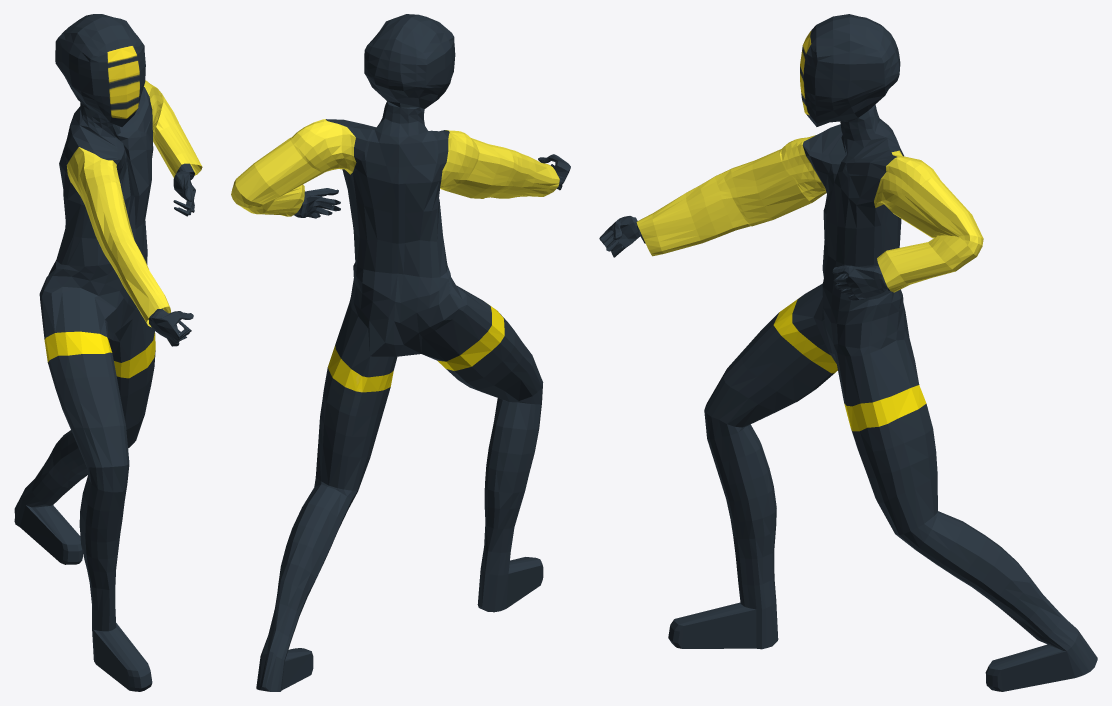
The model's file is Sentry_Attack_000001.obj.
3 renders of one model, left to right at view 1: azimuth 30°, elevation 25°; view 2: azimuth 150°, elevation 25°; view 3: azimuth 270°, elevation 25°, orthographic. The views are drawn at different scales.
Visible parts, largest first — view 1: Cube; view 2: Cube; view 3: Cube.
Part boxes in pixels (x1,y1,x2,y2): Cube: (14, 14, 202, 691); Cube: (231, 14, 570, 691); Cube: (599, 14, 1097, 691).
Size of the model in its own units: 1.23 by 3.62 by 2.52.
